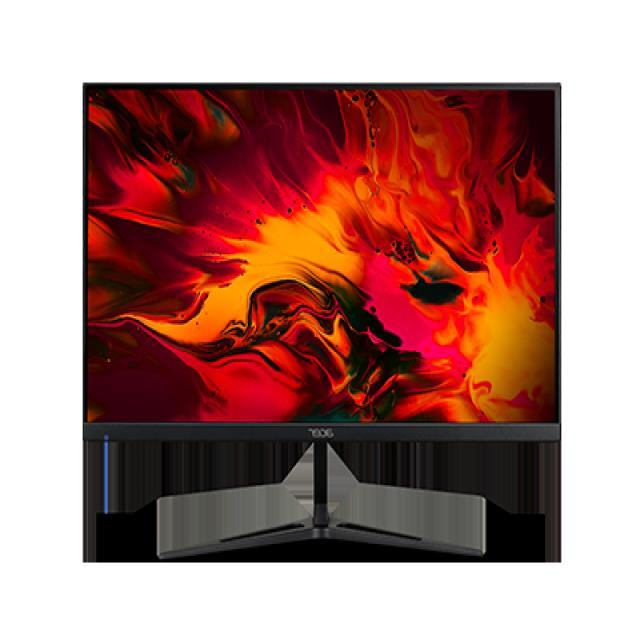monitor: (73, 85, 571, 564)
